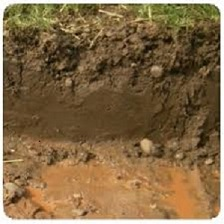clay_soil: (14, 15, 200, 177)
